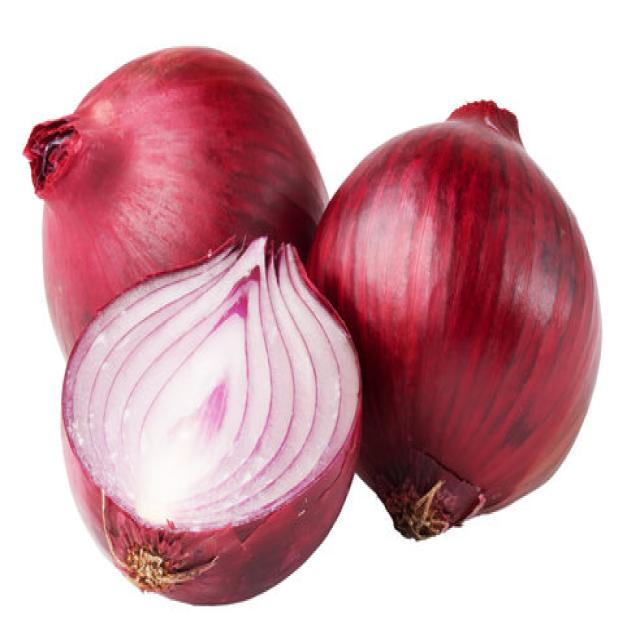Onion: (304, 96, 602, 540), (58, 233, 363, 606), (22, 42, 329, 362)
